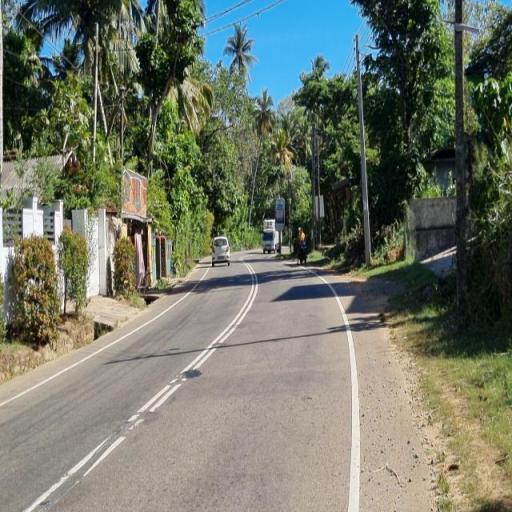double_white_line: (129, 263, 259, 432)
